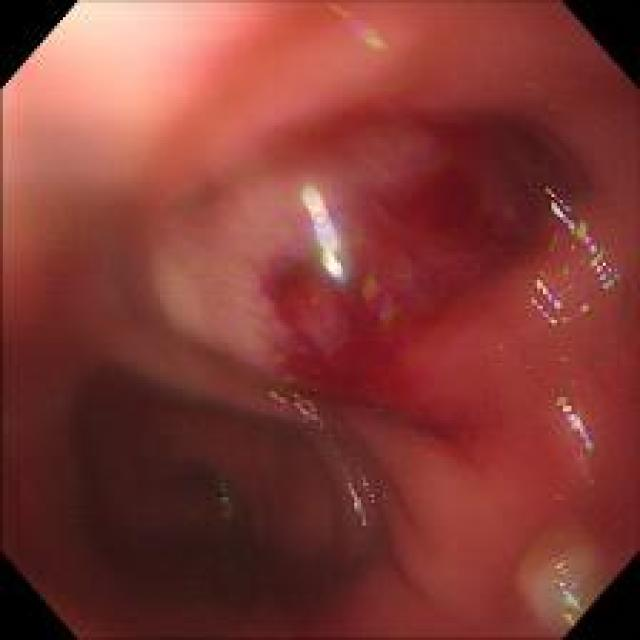blood: (265, 250, 436, 421)
color misalignment: (542, 185, 620, 324), (294, 181, 354, 294), (265, 371, 330, 434), (550, 386, 601, 459), (330, 4, 389, 62), (339, 468, 382, 532), (545, 555, 580, 626), (528, 274, 572, 325), (364, 266, 392, 325), (576, 456, 604, 502), (214, 468, 235, 522), (551, 490, 581, 525)
contrast: (5, 332, 406, 636)
